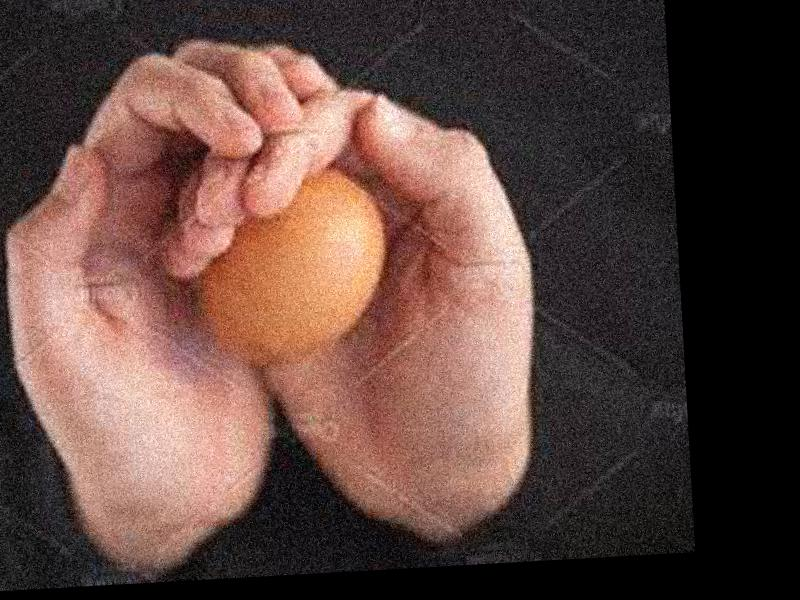Eggs: (184, 171, 392, 369)
